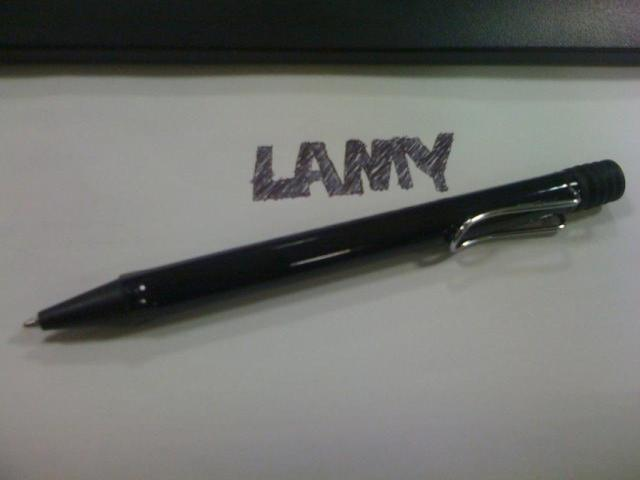PEN: (4, 145, 638, 353)
